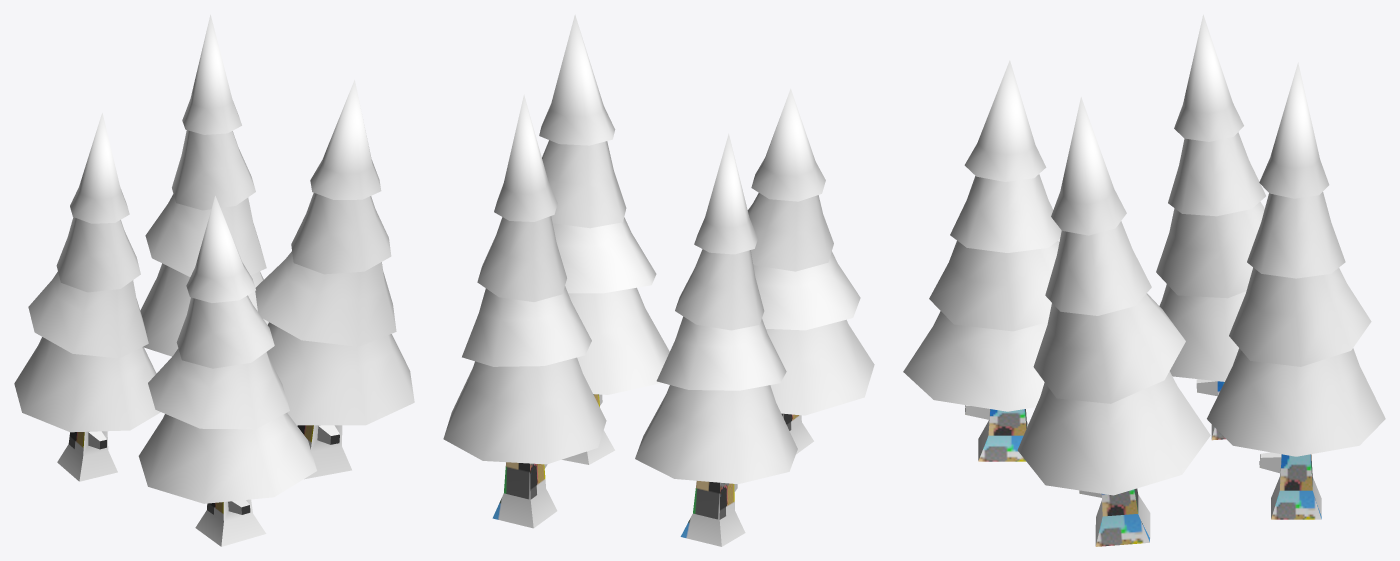
File: pine trees.fbx
3 views of the same model, side by side, from view 1: azimuth 30°, elevation 25°; view 2: azimuth 150°, elevation 25°; view 3: azimuth 270°, elevation 25° (orthographic). The views are drawn at different scales.
Visible parts, largest first — view 1: pine trees; view 2: pine trees; view 3: pine trees.
Part boxes in pixels (bbox=[...]): pine trees: bbox=[14, 14, 414, 546]; pine trees: bbox=[443, 14, 874, 546]; pine trees: bbox=[903, 14, 1385, 546].
Size of the model in its own units: 1.57 by 1.79 by 1.72.
